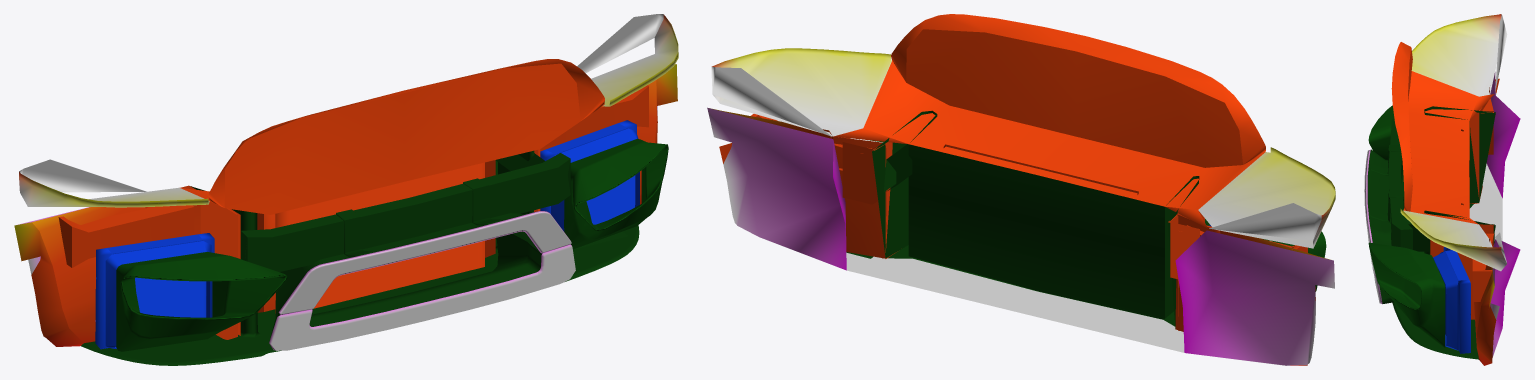
File: Car_Mini_CountrymanJCW_2017_BumperChassisF_SetE_AltD.fbx
The picture shows the model from 3 angles, left to right: view 1: azimuth 30°, elevation 25°; view 2: azimuth 150°, elevation 25°; view 3: azimuth 270°, elevation 25°; orthographic projection. The views are drawn at different scales.
Visible parts, largest first — view 1: BumperChassisF 6; view 2: BumperChassisF 6; view 3: BumperChassisF 6.
Part boxes in pixels (x1,y1,x2,y2): BumperChassisF 6: (14, 14, 678, 365); BumperChassisF 6: (707, 14, 1335, 365); BumperChassisF 6: (1364, 14, 1520, 365).
Size of the model in its own units: 1.78 by 0.6085 by 0.4917.
